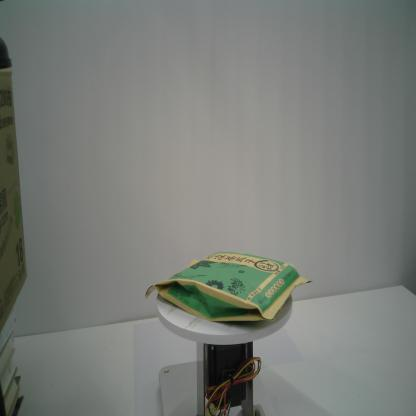Dried Food: (143, 250, 314, 324)
